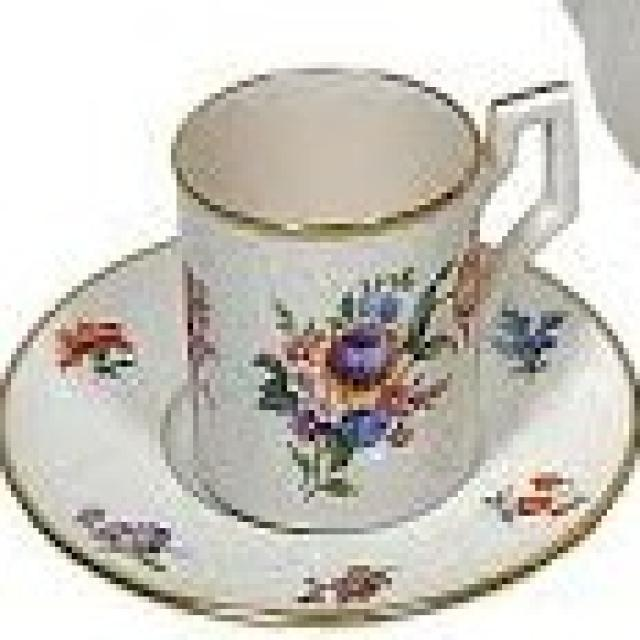taza: (161, 48, 590, 539)
